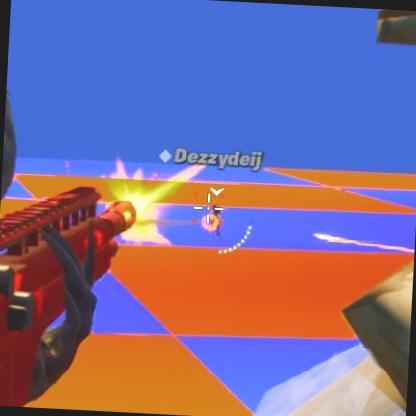person: (208, 203, 224, 235)
